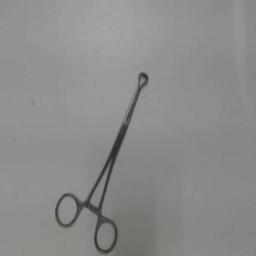Babcock Tissue Forceps: (54, 68, 150, 256)
